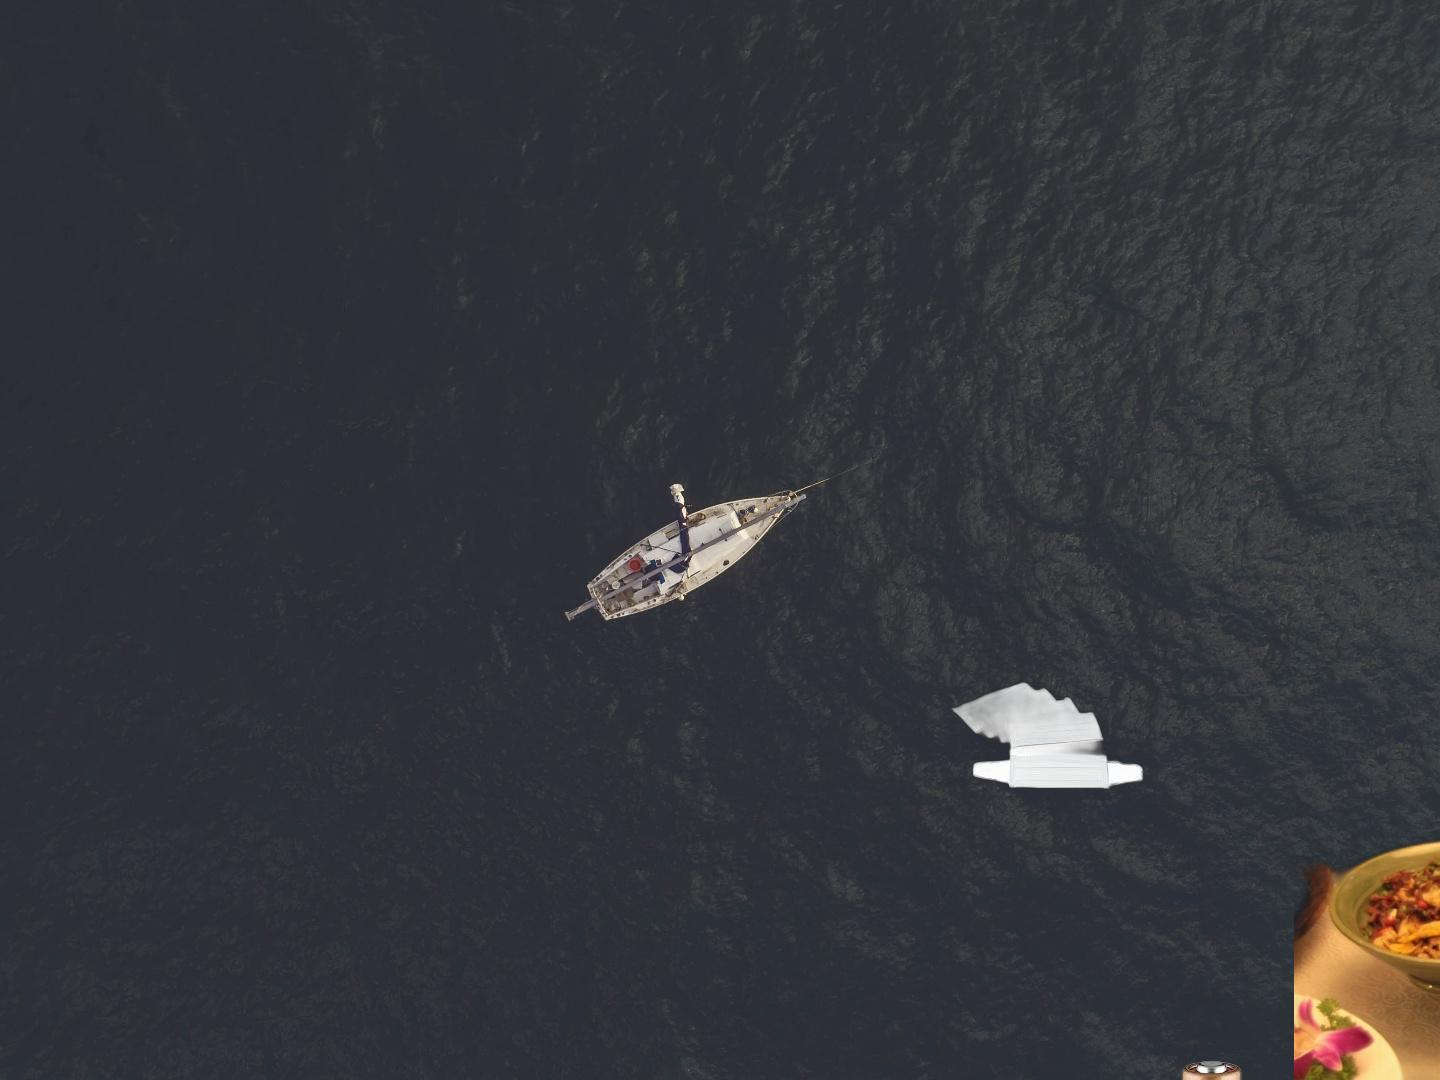battery: (1179, 1058, 1244, 1080)
biological: (1294, 832, 1440, 1080)
trash: (947, 680, 1146, 798)
